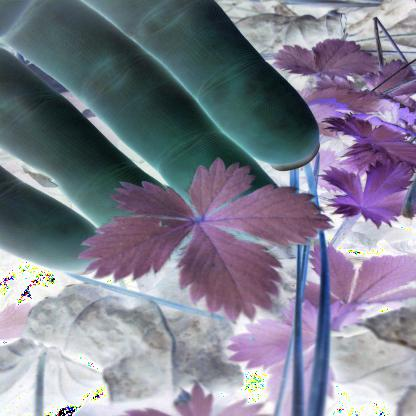strawberry leaf: (68, 215, 201, 287), (181, 222, 279, 319), (215, 187, 335, 245)
